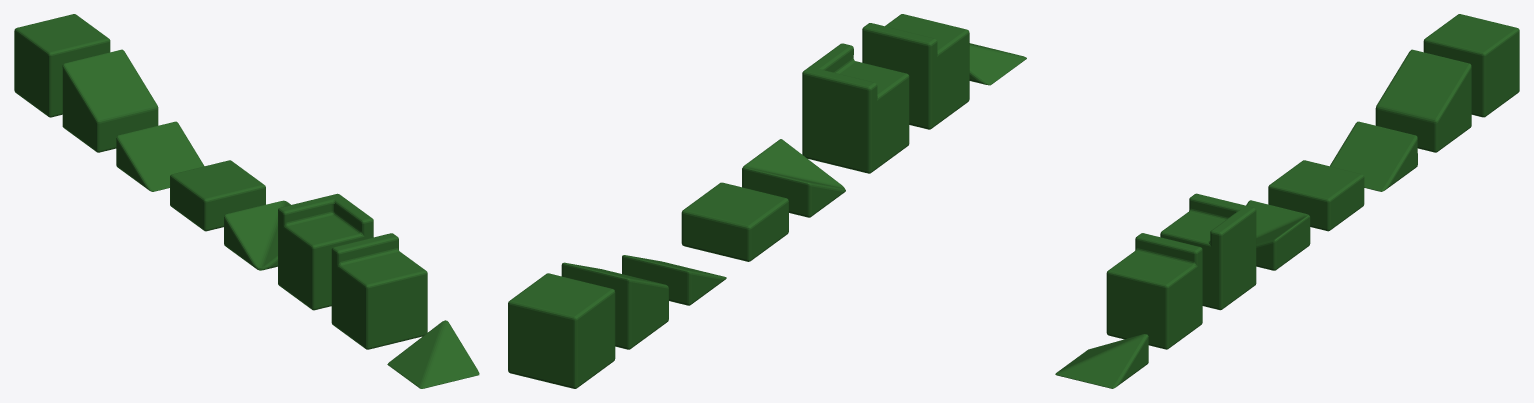
Rendered from world-blocks-v1.glb.
3 views of the same model, side by side, from view 1: azimuth 30°, elevation 25°; view 2: azimuth 150°, elevation 25°; view 3: azimuth 330°, elevation 25° (orthographic). The views are drawn at different scales.
Visible parts, largest first — view 1: Block_wall, Upper_slope, Block_wall_corner, Block, Half_block, Lower_slope, Lower_slope_inside_corner, Lower_slope_corner; view 2: Block_wall_corner, Block, Block_wall, Half_block, Lower_slope_corner, Upper_slope, Lower_slope, Lower_slope_inside_corner; view 3: Block_wall, Upper_slope, Block_wall_corner, Block, Half_block, Lower_slope, Lower_slope_corner, Lower_slope_inside_corner.
Boxes of the visible parts, left/top/right/bottom form: Block_wall: left=331, top=233, right=427, bottom=349; Upper_slope: left=62, top=49, right=158, bottom=152; Block_wall_corner: left=278, top=193, right=373, bottom=310; Block: left=14, top=14, right=110, bottom=117; Half_block: left=170, top=160, right=265, bottom=231; Lower_slope: left=116, top=121, right=204, bottom=191; Lower_slope_inside_corner: left=387, top=320, right=479, bottom=388; Lower_slope_corner: left=224, top=200, right=290, bottom=270; Block_wall_corner: left=802, top=43, right=909, bottom=173; Block: left=508, top=273, right=615, bottom=388; Block_wall: left=862, top=14, right=969, bottom=129; Half_block: left=681, top=182, right=788, bottom=261; Lower_slope_corner: left=742, top=139, right=845, bottom=217; Upper_slope: left=561, top=262, right=668, bottom=349; Lower_slope: left=622, top=255, right=726, bottom=305; Lower_slope_inside_corner: left=969, top=43, right=1026, bottom=85; Block_wall: left=1106, top=233, right=1202, bottom=349; Upper_slope: left=1375, top=49, right=1471, bottom=152; Block_wall_corner: left=1160, top=193, right=1256, bottom=310; Block: left=1423, top=14, right=1519, bottom=117; Half_block: left=1268, top=160, right=1364, bottom=231; Lower_slope: left=1330, top=121, right=1417, bottom=191; Lower_slope_corner: left=1246, top=200, right=1310, bottom=270; Lower_slope_inside_corner: left=1055, top=334, right=1148, bottom=388.
Size of what is drawn, in the model's own units: 2 by 2.4 by 22.63.
